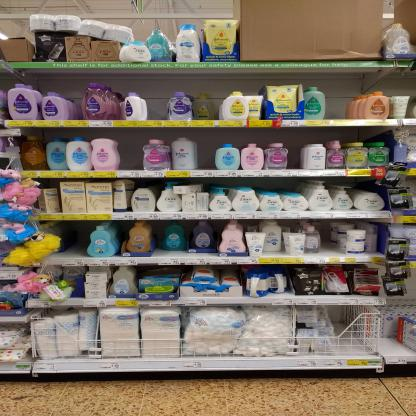Void: (337, 308, 374, 353), (379, 316, 411, 355), (116, 136, 142, 170), (57, 226, 80, 256), (326, 88, 346, 119), (198, 139, 216, 168), (150, 88, 164, 119), (286, 138, 300, 167), (158, 246, 186, 257), (320, 249, 341, 256), (267, 252, 283, 256)
